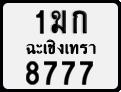letters: (51, 10, 67, 34), (72, 10, 88, 34), (43, 60, 58, 85), (79, 61, 94, 85), (26, 60, 40, 85), (62, 60, 75, 86), (35, 9, 45, 35)
province: (26, 38, 96, 55)
